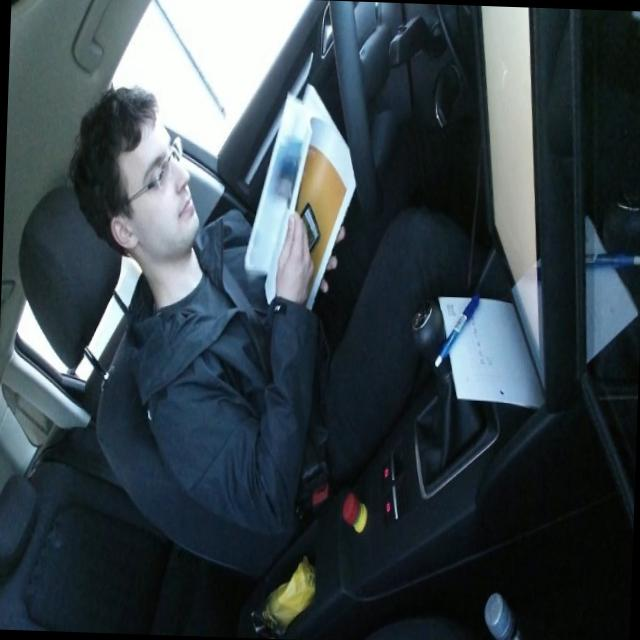pen: (433, 289, 480, 369)
